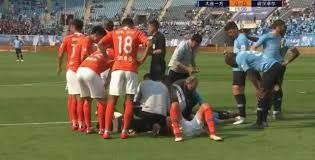fall: (153, 88, 231, 139)
